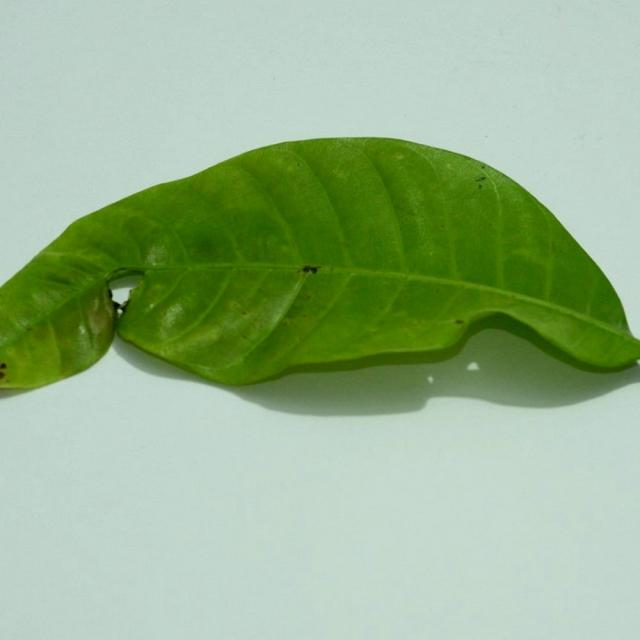Anthracnose: (459, 308, 554, 347), (106, 272, 150, 335), (21, 249, 138, 269), (287, 258, 340, 287), (105, 266, 147, 288), (97, 283, 117, 323), (0, 369, 11, 385)
Mango: (0, 138, 639, 403)
